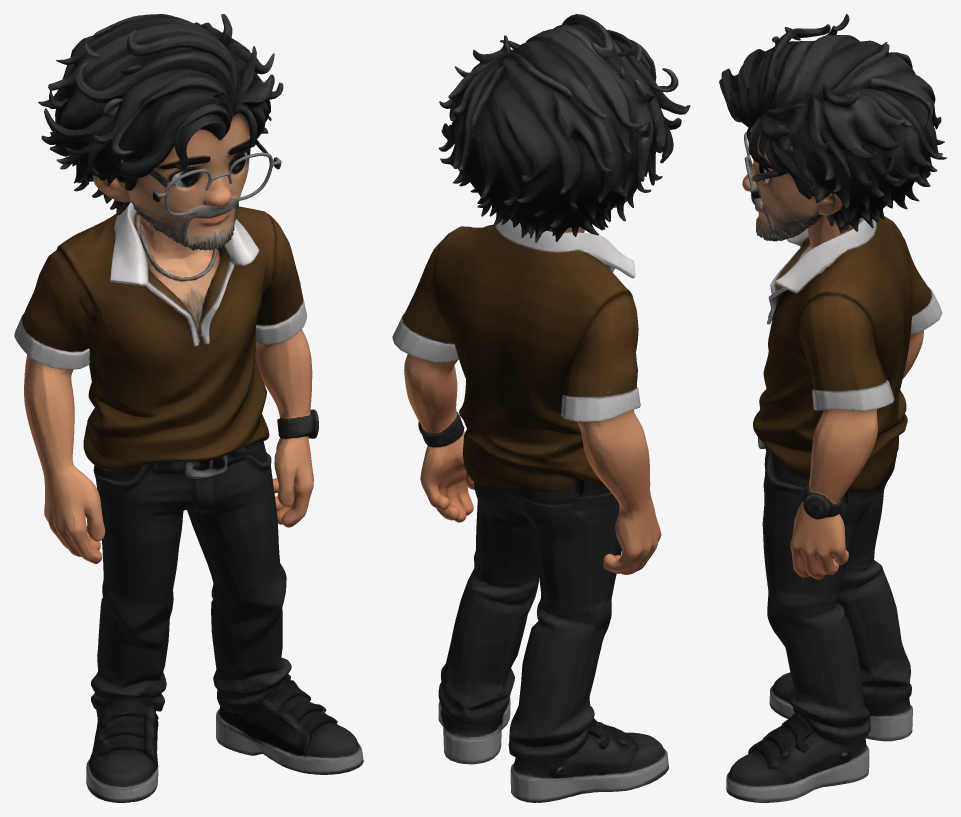
Rendered from roshan_avatar.glb.
3 views of the same model, side by side, from view 1: azimuth 30°, elevation 25°; view 2: azimuth 150°, elevation 25°; view 3: azimuth 270°, elevation 25° (orthographic). The views are drawn at different scales.
Parts seen in each view (by area): view 1: world; view 2: world; view 3: world.
Boxes of the visible parts, <box> form: world: <box>14,14,363,802</box>; world: <box>392,14,690,802</box>; world: <box>719,14,946,802</box>.
Size of the model in its own units: 0.3692 by 1 by 0.2958.
Materials: 1 (1 with a texture image).
